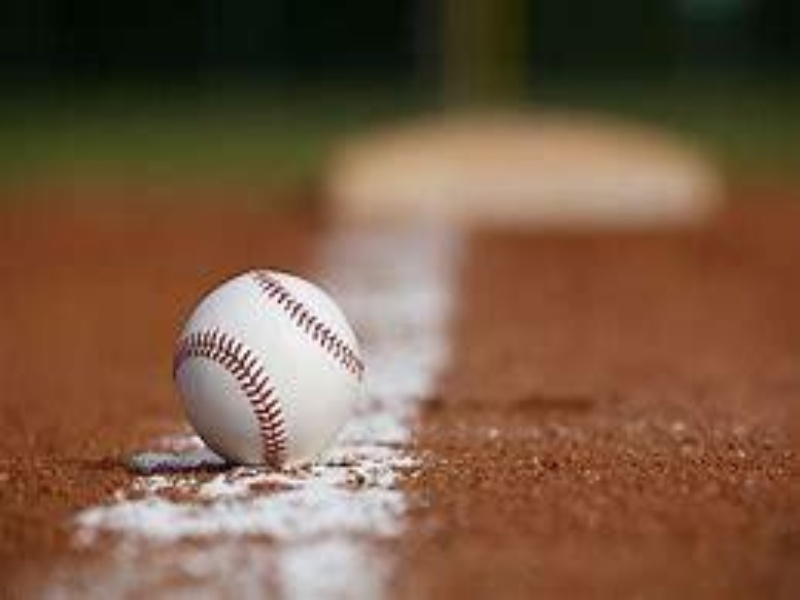baseball: (160, 265, 373, 466)
